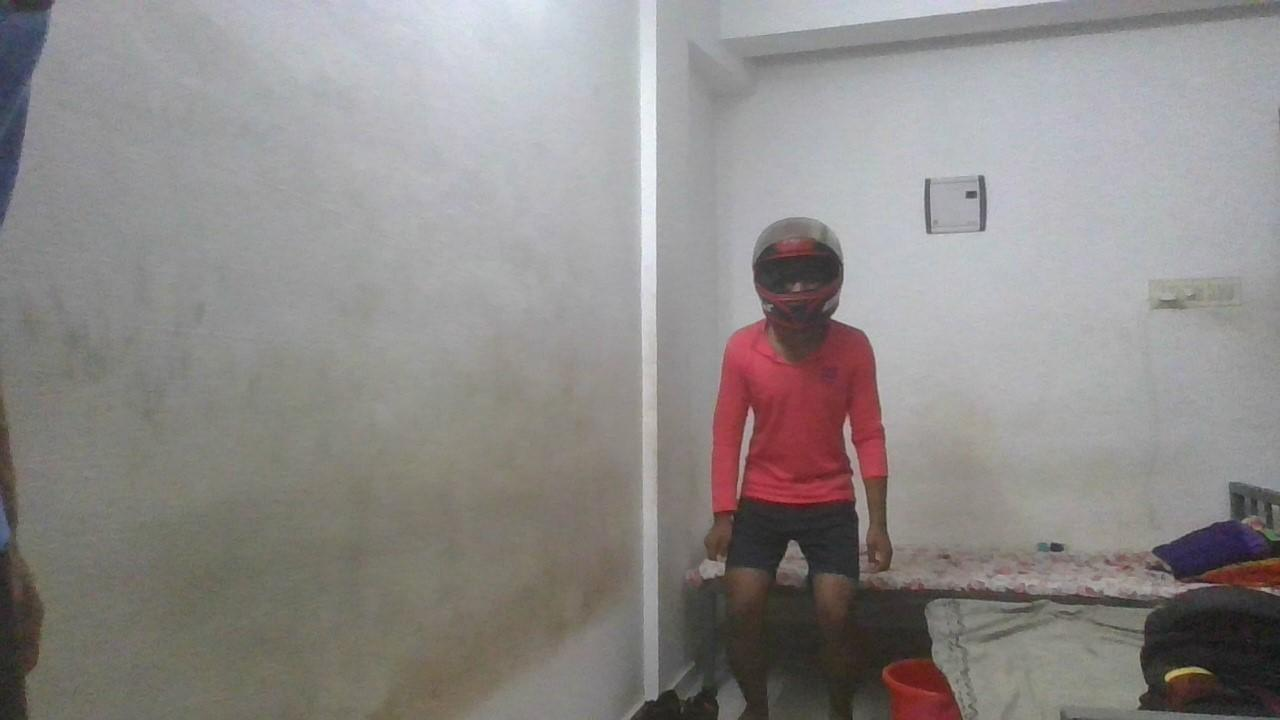helmet: (751, 217, 845, 332)
